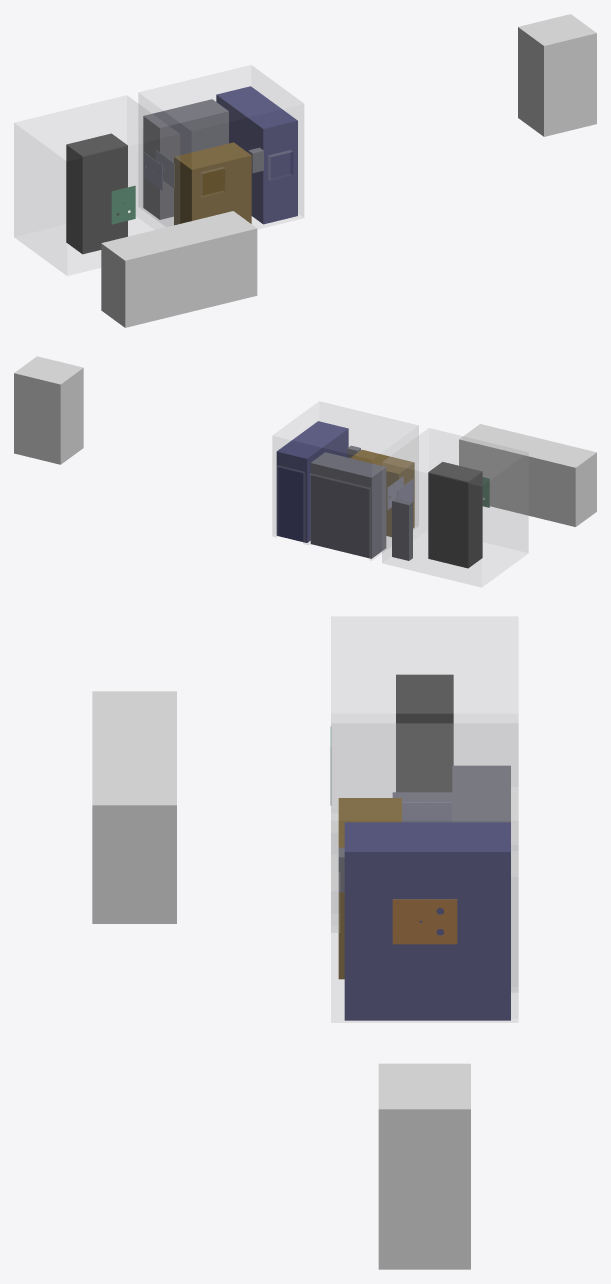
Rendered from assembly.glb.
3 views of the same model, one above another, from view 1: azimuth 30°, elevation 25°; view 2: azimuth 150°, elevation 25°; view 3: azimuth 270°, elevation 25° (orthographic). The views are drawn at different scales.
Visible parts, largest first — view 1: container_shell (×2), EXT-DC-001, EXT-BESS-002, GRD-SWG-001, CMP-RACK-001, GRD-XFM-001, GRD-LVS-001, ARC-PLT-CD, ARC-PLT-CG; view 2: container_shell (×2), EXT-DC-001, GRD-LVS-001, EXT-BESS-002, CMP-RACK-001, GRD-SWG-001, GRD-XFM-001, CMP-PNL-001; view 3: container_shell (×2), GRD-SWG-001, EXT-DC-001, EXT-BESS-002, CMP-RACK-001, GRD-LVS-001, ARC-PLT-BG-AC, GRD-XFM-001, ARC-PLT-CG.
Boxes of the visible parts, x1,y1,x2,y2 form: container_shell (×2): (14,65,303,275); EXT-DC-001: (101,211,257,327); EXT-BESS-002: (518,14,596,136); GRD-SWG-001: (216,86,297,224); CMP-RACK-001: (66,133,127,254); GRD-XFM-001: (174,142,251,225); GRD-LVS-001: (143,99,228,219); ARC-PLT-CD: (111,185,135,224); ARC-PLT-CG: (144,152,162,190); container_shell (×2): (272,401,528,587); EXT-DC-001: (459,424,596,526); GRD-LVS-001: (310,452,386,558); EXT-BESS-002: (14,356,83,464); CMP-RACK-001: (428,462,482,568); GRD-SWG-001: (276,421,348,542); GRD-XFM-001: (350,449,414,536); CMP-PNL-001: (392,498,412,560); container_shell (×2): (331,616,518,1022); GRD-SWG-001: (344,822,510,1020); EXT-DC-001: (92,691,176,923); EXT-BESS-002: (378,1063,470,1269); CMP-RACK-001: (396,674,453,796); GRD-LVS-001: (452,765,510,822); ARC-PLT-BG-AC: (392,899,457,944); GRD-XFM-001: (338,798,401,979); ARC-PLT-CG: (402,802,452,822).
Bounding box in the file's own units: 14636 × 2896 × 5538.
